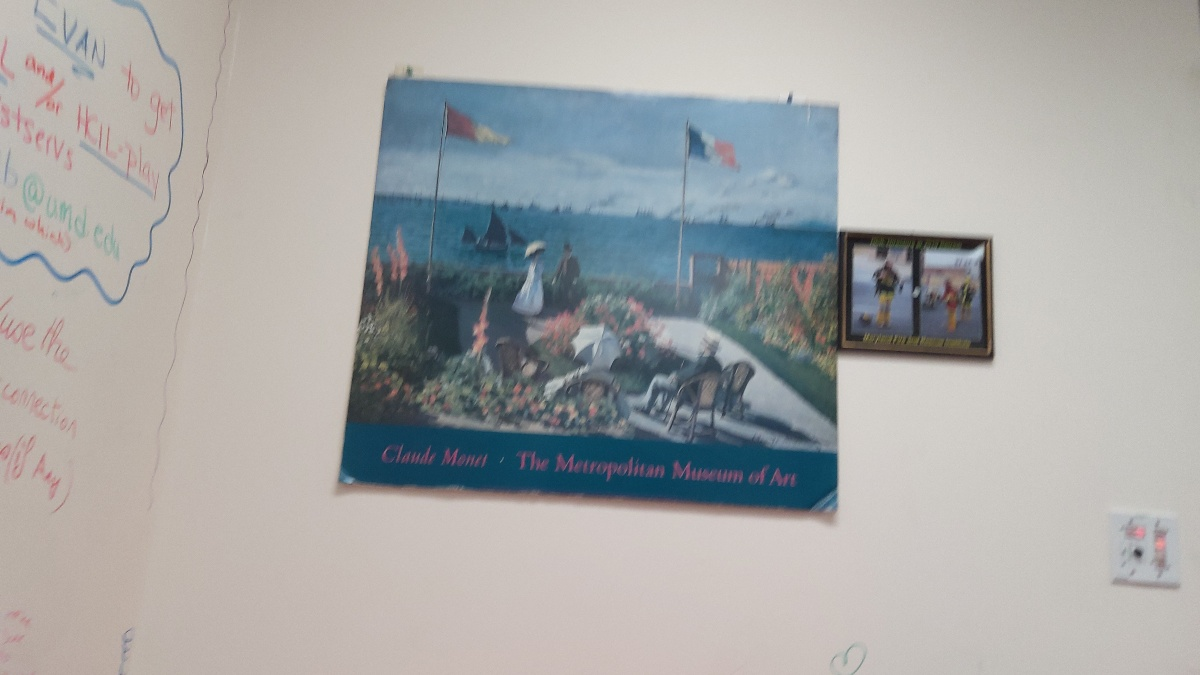poster: (322, 45, 847, 529)
